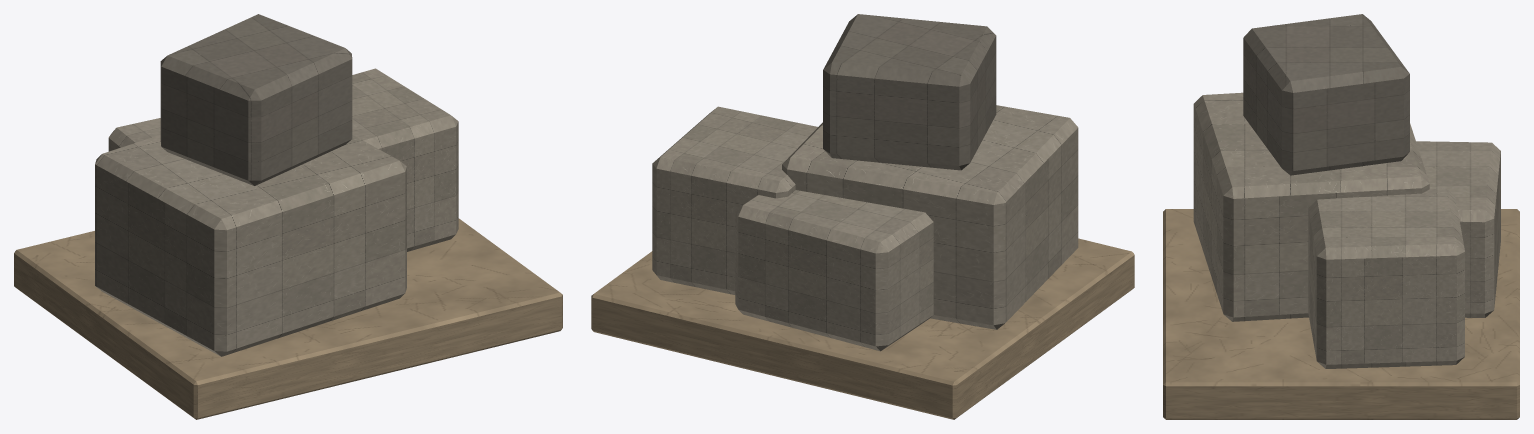
The model's file is prop_pallet_stack.obj.
3 renders of one model, left to right at view 1: azimuth 30°, elevation 25°; view 2: azimuth 150°, elevation 25°; view 3: azimuth 270°, elevation 25°, orthographic. The views are drawn at different scales.
Parts seen in each view (by area): view 1: prop_pallet_stack; view 2: prop_pallet_stack; view 3: prop_pallet_stack.
Boxes of the visible parts, x1,y1,x2,y2 form: prop_pallet_stack: (14,14,562,419); prop_pallet_stack: (591,14,1134,419); prop_pallet_stack: (1163,14,1519,419).
Size of the model in its own units: 1.4 by 0.99 by 1.2.
1 material, 1 textured.
